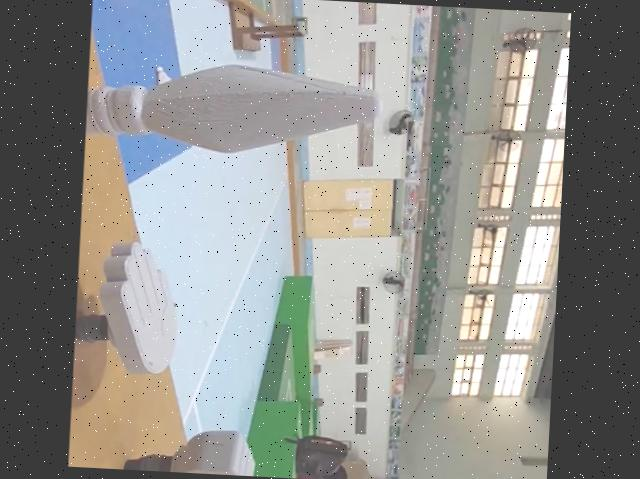Fist: (120, 417, 260, 476)
Hand: (74, 236, 189, 374)
Sph: (85, 44, 392, 160)
